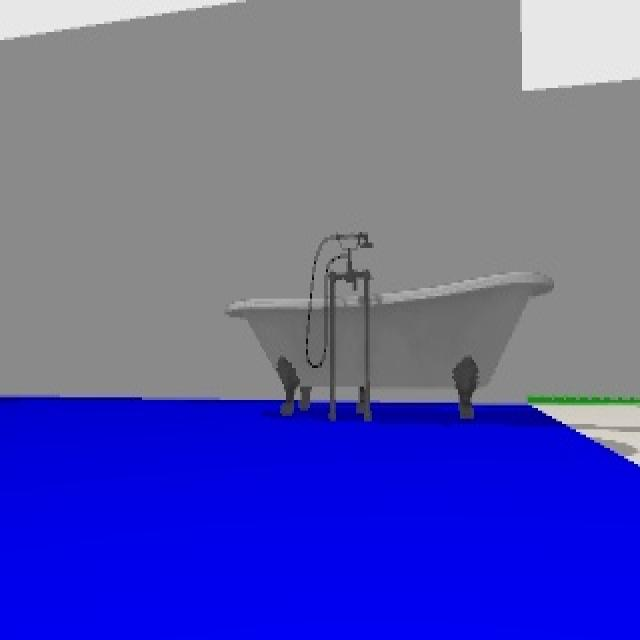bathtub: (226, 235, 556, 421)
